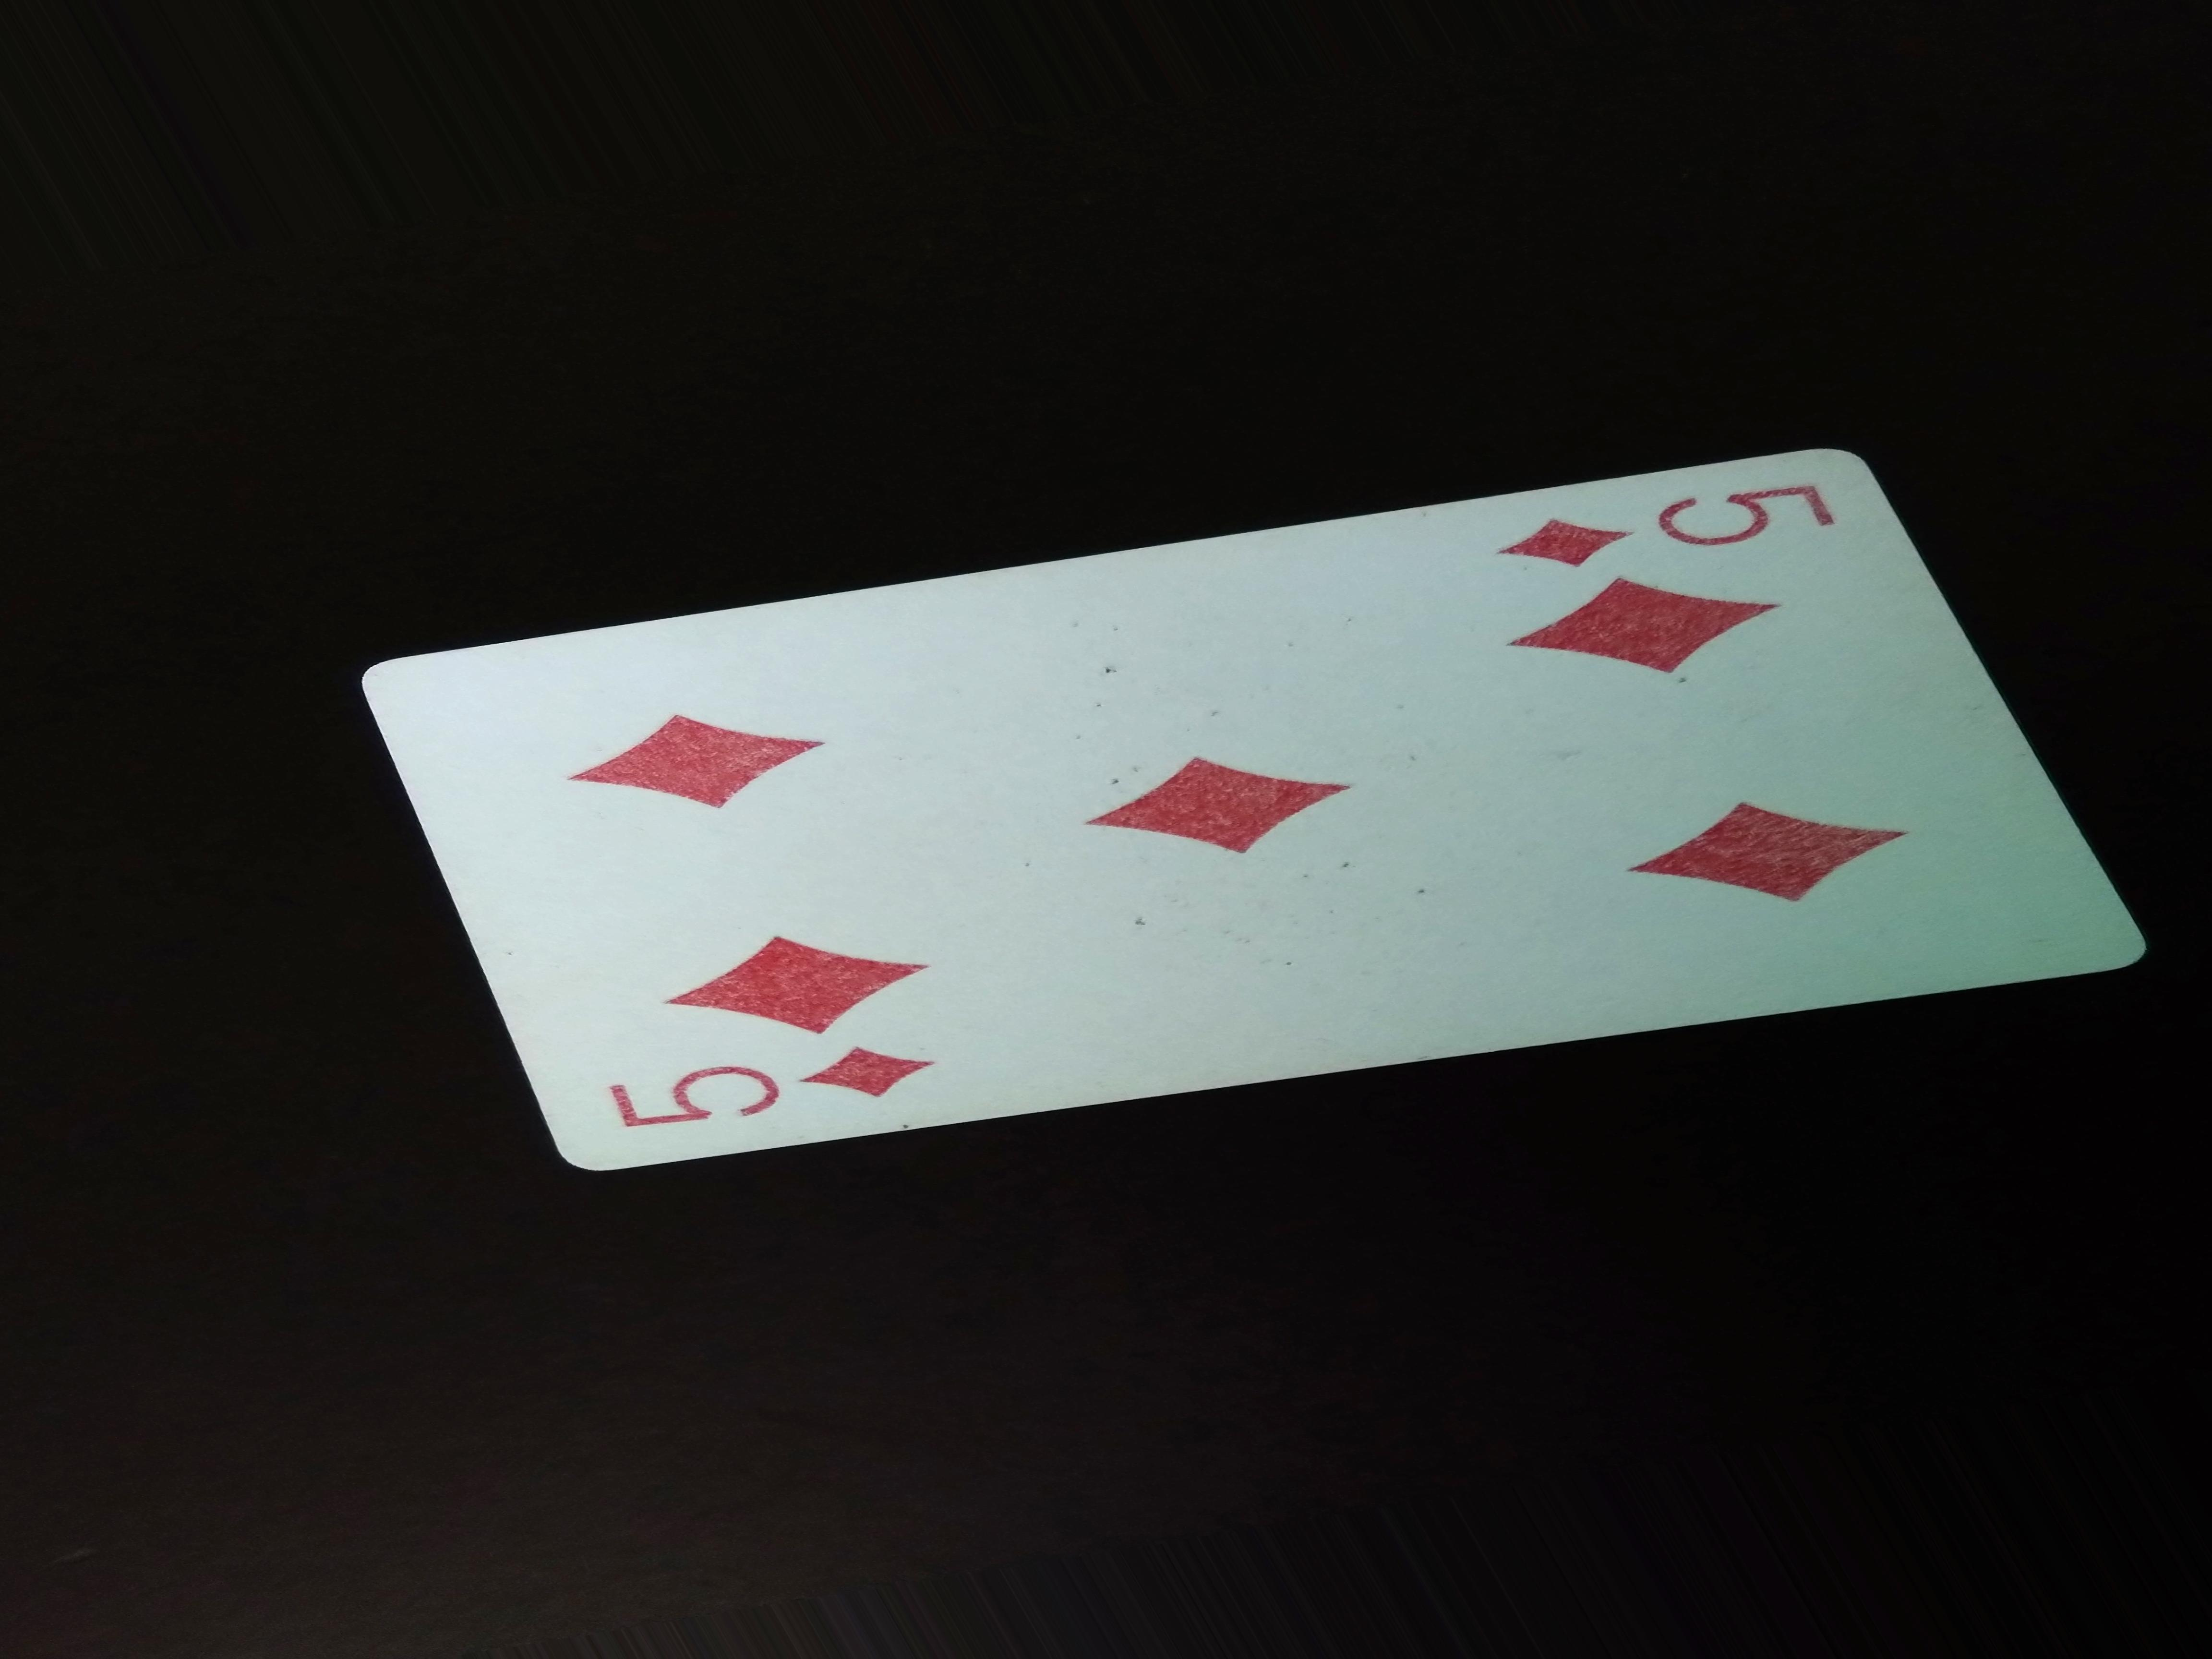5D: (589, 1044, 939, 1131)
